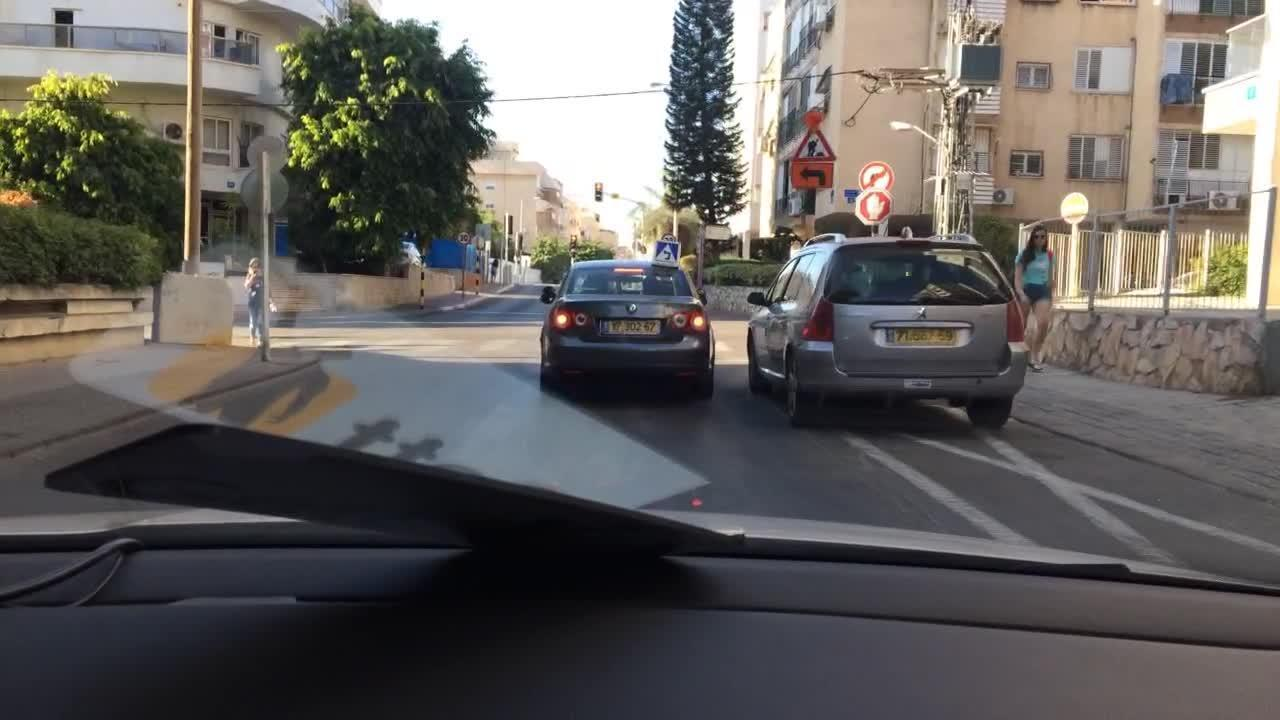Volkswagen: (622, 299, 647, 317)
no class: (912, 308, 931, 323)
